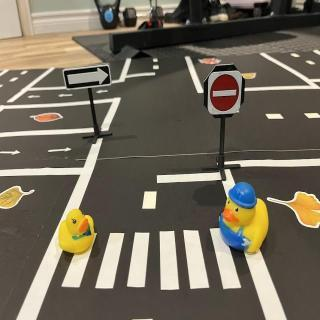duck_regular: (60, 209, 97, 256)
duck_specialty: (219, 182, 271, 254)
road_crosswalk: (59, 225, 248, 293)
road_oneway: (47, 146, 75, 155), (1, 149, 23, 160), (59, 92, 77, 100), (28, 95, 43, 104), (95, 89, 111, 95)
sign_noentry: (209, 70, 243, 114)
sign_oneway_right: (65, 64, 114, 92)
